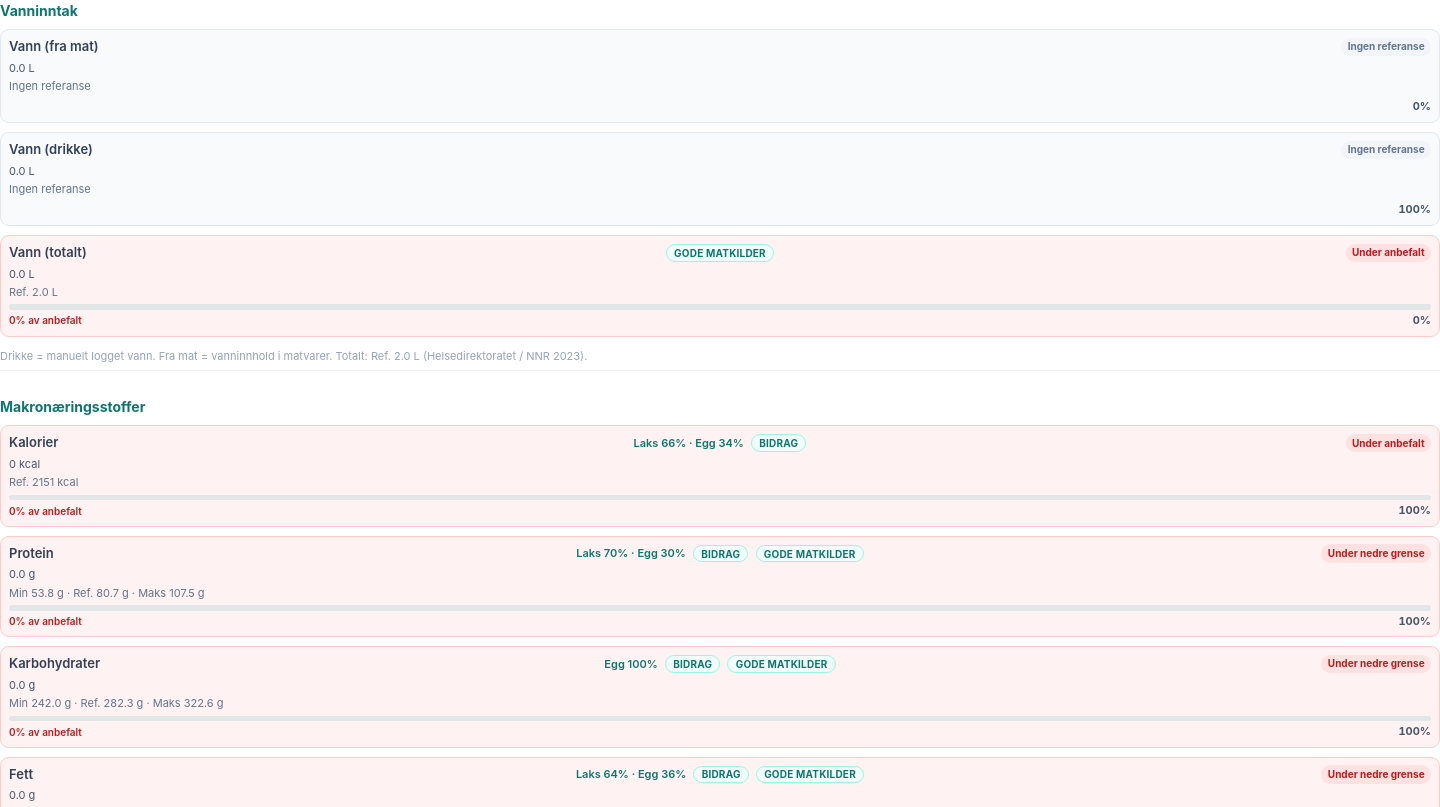
Test case: NutritionReportStackedBody › shows top food contributions and expands full names from Bidrag
The image size is (1440, 807).
Check: the text "Laks 66% · Egg 34%" is shown, box x1=634 y1=436 x2=744 y2=450
Click the button "Bidrag" next to "Laks 66% · Egg 34%" at [779, 443], box x1=751 y1=434 x2=806 y2=452
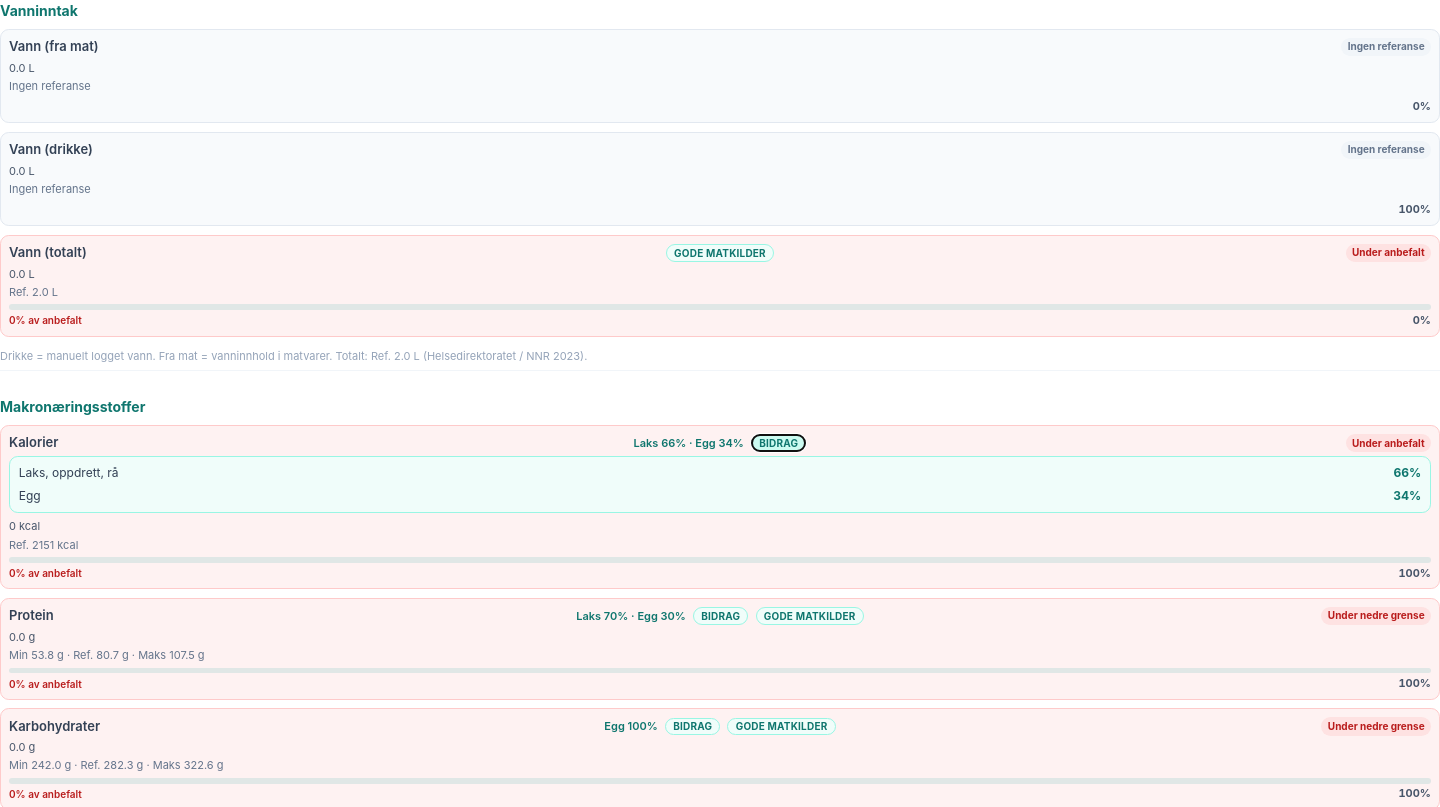
Check: the text "Laks, oppdrett, rå" is shown, box x1=19 y1=464 x2=119 y2=482
